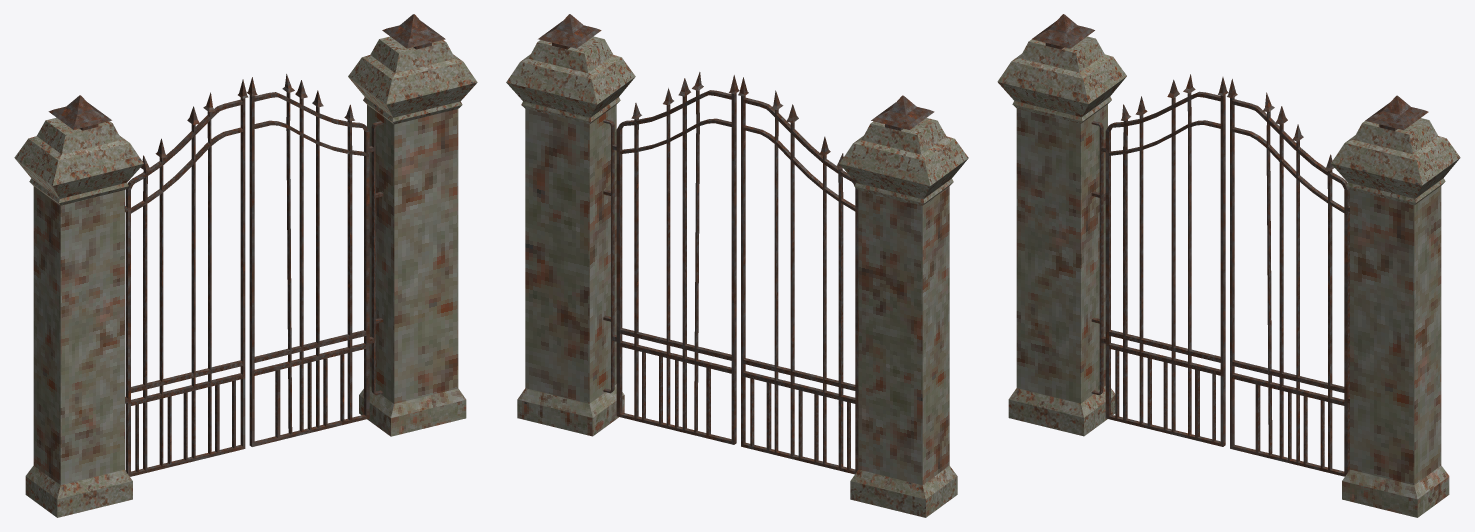
The model's file is Gate Rusted.fbx.
The picture shows the model from 3 angles, left to right: view 1: azimuth 30°, elevation 25°; view 2: azimuth 150°, elevation 25°; view 3: azimuth 330°, elevation 25°; orthographic projection.
Parts seen in each view (by area): view 1: Old Cemetery Gate Closed; view 2: Old Cemetery Gate Closed; view 3: Old Cemetery Gate Closed.
Part boxes in pixels (x1,y1,x2,y2): Old Cemetery Gate Closed: (14,14,477,517); Old Cemetery Gate Closed: (506,14,968,517); Old Cemetery Gate Closed: (997,14,1460,517).
Bounding box in the file's own units: 473 × 427 × 74.53.
Materials: 2 (2 with a texture image).
